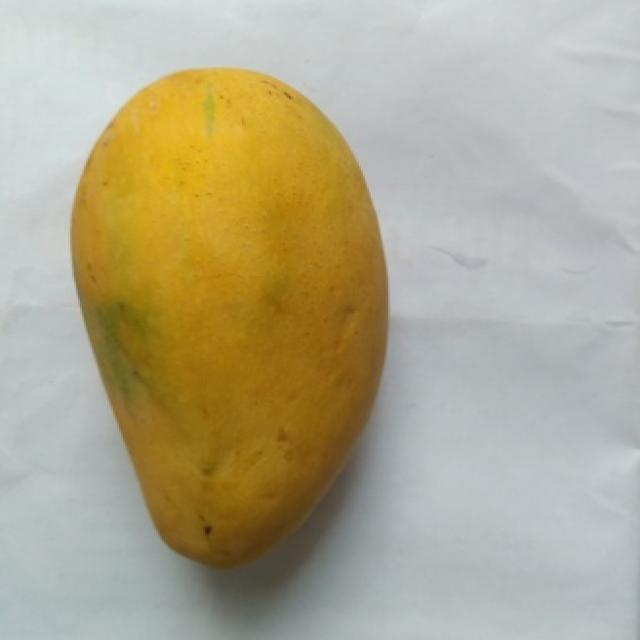Mango: (74, 69, 386, 565)
